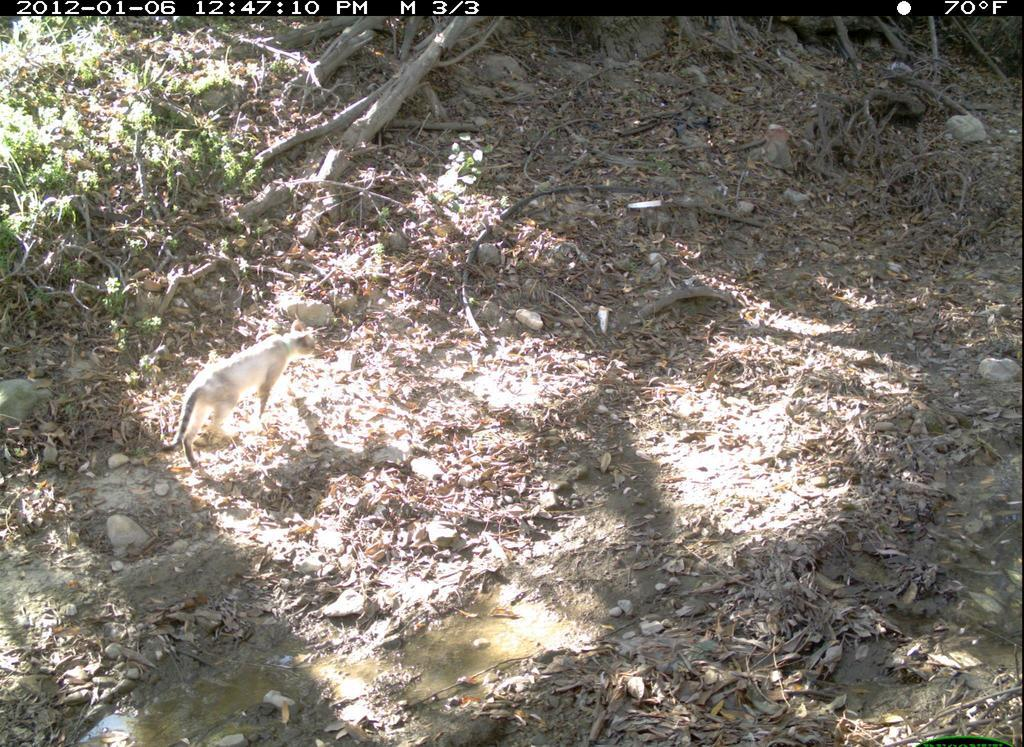cat: (151, 318, 335, 478)
